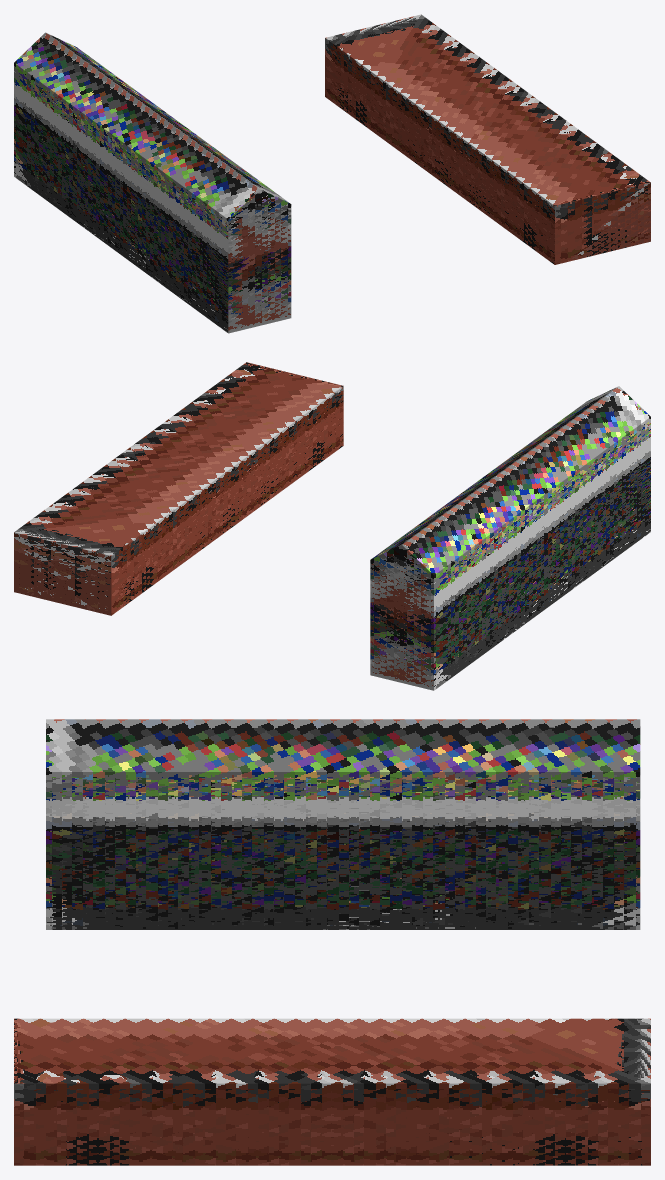
File: dum_20_stadion.glb
The picture shows the model from 3 angles, top to bottom: view 1: azimuth 30°, elevation 25°; view 2: azimuth 150°, elevation 25°; view 3: azimuth 270°, elevation 25°; orthographic projection. The views are drawn at different scales.
Size of the model in its own units: 28.67 by 9.09 by 27.75.
1 material, 1 textured.
